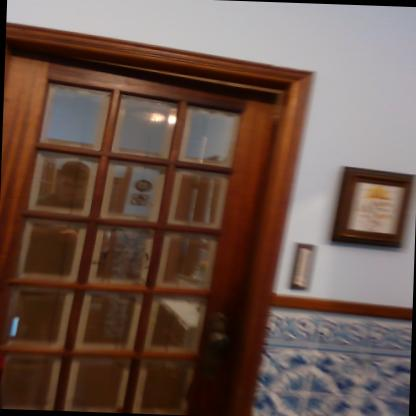closed: (0, 46, 329, 416)
